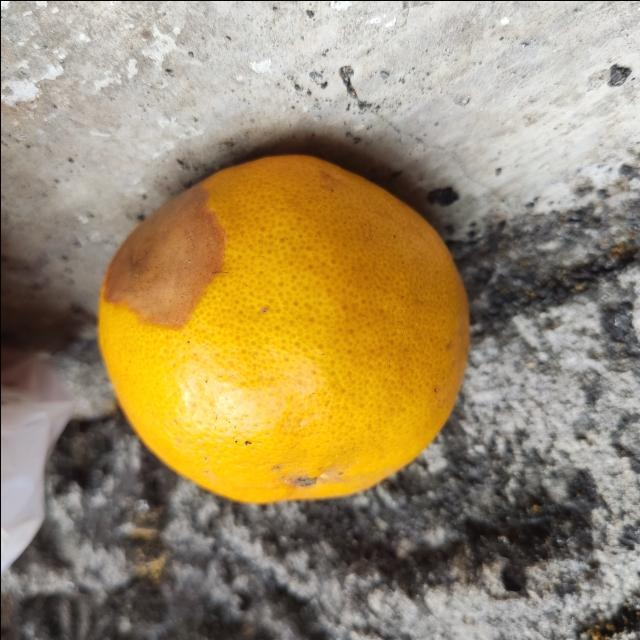agrume: (93, 154, 471, 506)
